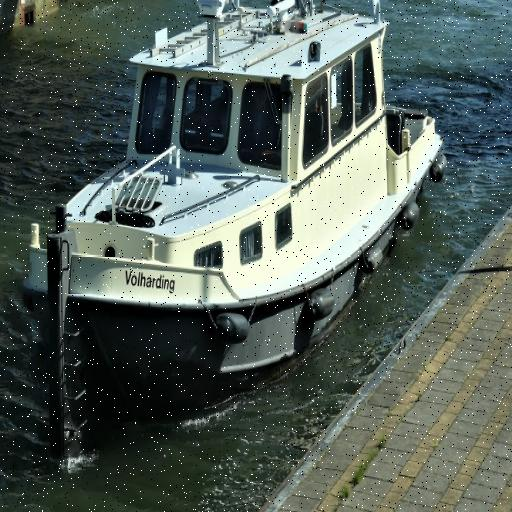tugboat: (18, 1, 452, 488)
